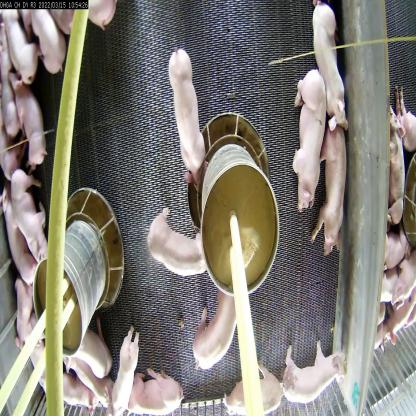Pig: (305, 0, 365, 143), (179, 281, 247, 377), (140, 206, 207, 298), (287, 67, 327, 211), (316, 99, 352, 257), (165, 52, 204, 184), (7, 157, 51, 258), (17, 67, 55, 181), (281, 341, 350, 403), (70, 329, 132, 387), (24, 12, 73, 78), (126, 376, 193, 415), (114, 327, 142, 416), (225, 368, 278, 415)
